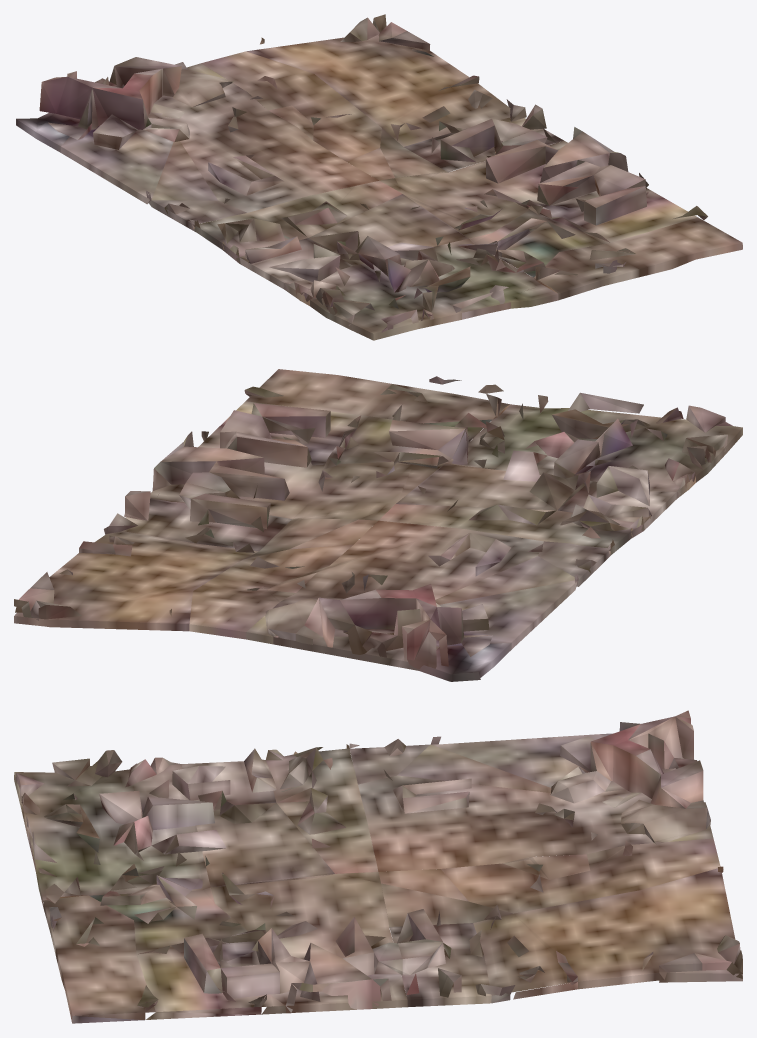
The picture shows the model from 3 angles, top to bottom: view 1: azimuth 30°, elevation 25°; view 2: azimuth 150°, elevation 25°; view 3: azimuth 270°, elevation 25°; orthographic projection. The views are drawn at different scales.
Visible parts, largest first — view 1: Mesh_0; view 2: Mesh_0; view 3: Mesh_0.
Boxes of the visible parts, x1,y1,x2,y2 form: Mesh_0: (16, 14, 742, 340); Mesh_0: (14, 369, 742, 681); Mesh_0: (14, 710, 742, 1023).
Bounding box in the file's own units: 535 × 84.56 × 659.
Materials: 1 (1 with a texture image).
